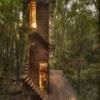stairs: (24, 76, 45, 100)
